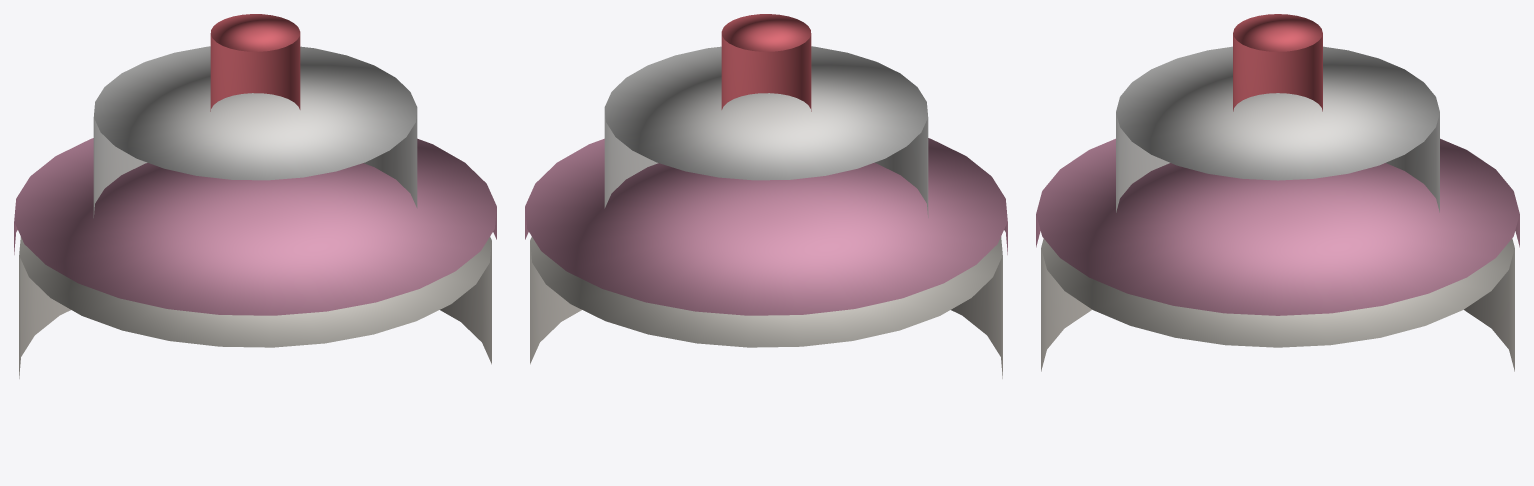
The model's file is cake.glb.
3 renders of one model, left to right at view 1: azimuth 30°, elevation 25°; view 2: azimuth 150°, elevation 25°; view 3: azimuth 270°, elevation 25°, orthographic.
Bounding box in the file's own units: 1.94 × 1.5 × 1.94.
